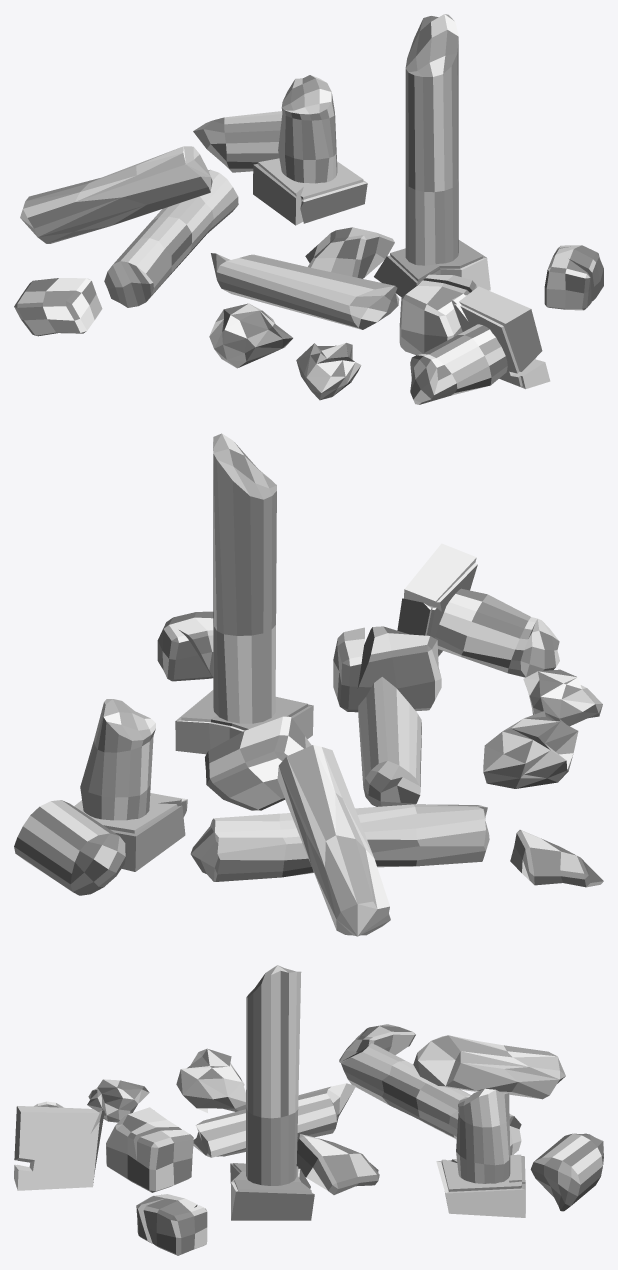
File: ruins-rubble.glb
The picture shows the model from 3 angles, top to bottom: view 1: azimuth 30°, elevation 25°; view 2: azimuth 150°, elevation 25°; view 3: azimuth 270°, elevation 25°; orthographic projection. The views are drawn at different scales.
Visible parts, largest first — view 1: Cube.001, Cube.003, Cube.004, Cylinder.001, Cube.002, Cylinder, Cube.010, Cube.017, Cylinder.002, Icosphere, Cube.008, Cube.011 (+1 smaller); view 2: Cube.001, Cylinder, Cylinder.001, Cube.004, Cube.003, Cube.010, Cylinder.002, Cube.002, Cube.011, Icosphere, Cube.008, Cube.017 (+1 smaller); view 3: Cube.001, Cube.003, Cube.004, Cylinder.001, Cylinder, Cube.010, Cube.002, Cylinder.002, Cube.008, Cube.011, Icosphere, Icosphere.001 (+1 smaller).
Boxes of the visible parts, x1,y1,x2,y2 form: Cube.001: (374,14,490,297); Cube.003: (253,75,367,225); Cube.004: (410,286,550,404); Cylinder.001: (20,146,212,243); Cube.002: (211,253,399,329); Cylinder: (104,169,238,307); Cube.010: (399,274,476,355); Cube.017: (14,278,102,336); Cylinder.002: (193,111,282,172); Icosphere: (209,303,292,368); Cube.008: (544,245,603,310); Cube.011: (305,227,394,278); Cube.001: (175,433,313,754); Cylinder: (190,804,489,881); Cylinder.001: (277,745,390,936); Cube.004: (397,543,559,677); Cube.003: (74,699,187,871); Cube.010: (333,626,441,712); Cylinder.002: (14,800,126,895); Cube.002: (358,677,421,806); Cube.011: (205,716,311,810); Icosphere: (483,711,578,788); Cube.008: (157,611,213,681); Cube.017: (510,829,603,887); Cube.001: (230,965,314,1220); Cube.003: (436,1088,525,1217); Cube.004: (14,1101,104,1190); Cylinder.001: (413,1035,565,1099); Cylinder: (340,1043,521,1155); Cube.010: (106,1107,193,1192); Cube.002: (193,1083,355,1157); Cylinder.002: (530,1133,603,1211); Cube.008: (136,1194,207,1255); Cube.011: (296,1134,379,1194); Icosphere: (176,1048,245,1112); Icosphere.001: (87,1079,149,1122).
Size of the model in its own units: 1282 by 686 by 1471.
1 material, 1 textured.
